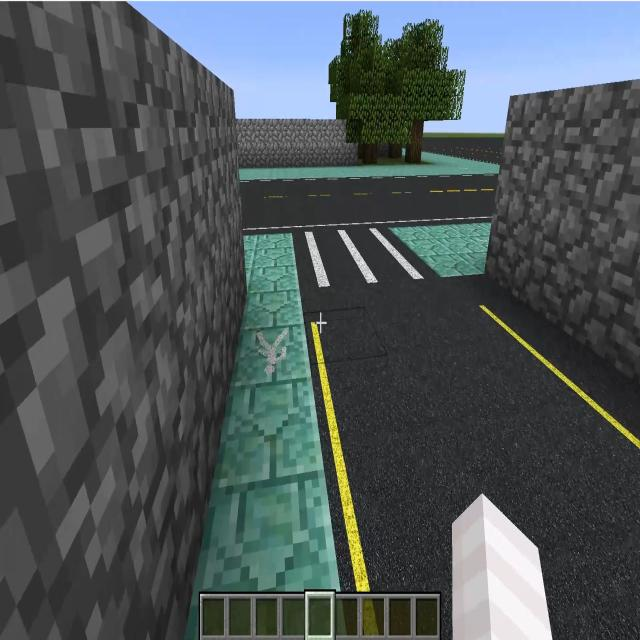crosswalk: (296, 221, 442, 307)
road: (308, 288, 637, 635), (242, 182, 497, 229)
sidewalk: (194, 233, 340, 590), (239, 152, 499, 181), (391, 223, 490, 277)
